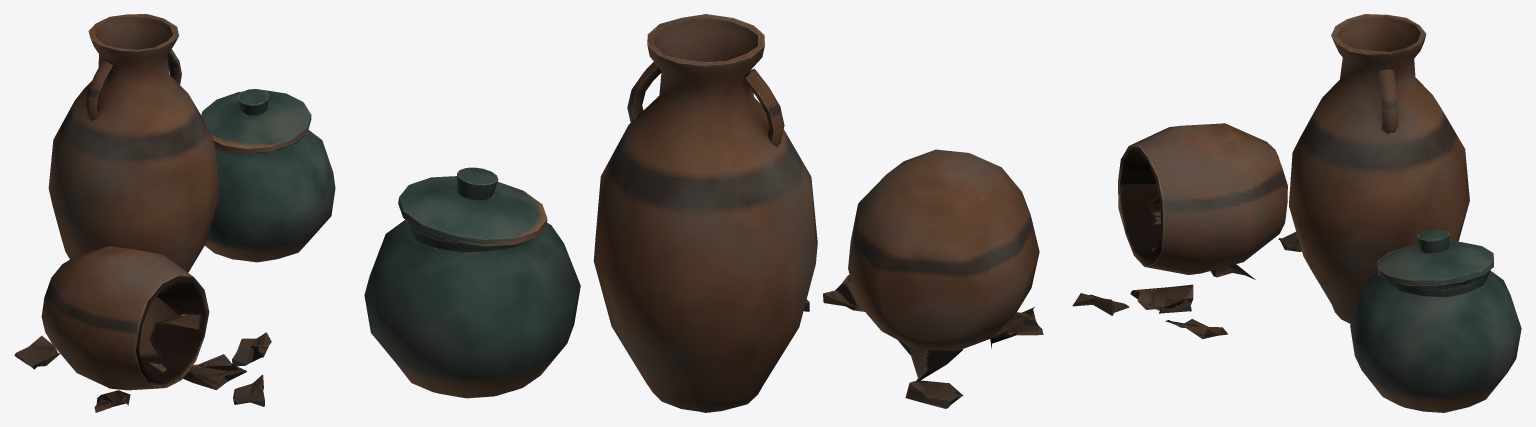
Rendered from urns.glb.
The picture shows the model from 3 angles, left to right: view 1: azimuth 30°, elevation 25°; view 2: azimuth 150°, elevation 25°; view 3: azimuth 270°, elevation 25°; orthographic projection. The views are drawn at different scales.
Visible parts, largest first — view 1: Urns; view 2: Urns; view 3: Urns.
Boxes of the visible parts, box(x1,y1,x2,y2) form: Urns: box(14, 14, 335, 412); Urns: box(364, 14, 1043, 412); Urns: box(1072, 14, 1521, 412).
Size of the model in its own units: 0.9606 by 0.685 by 0.9415.
1 material, 1 textured.
